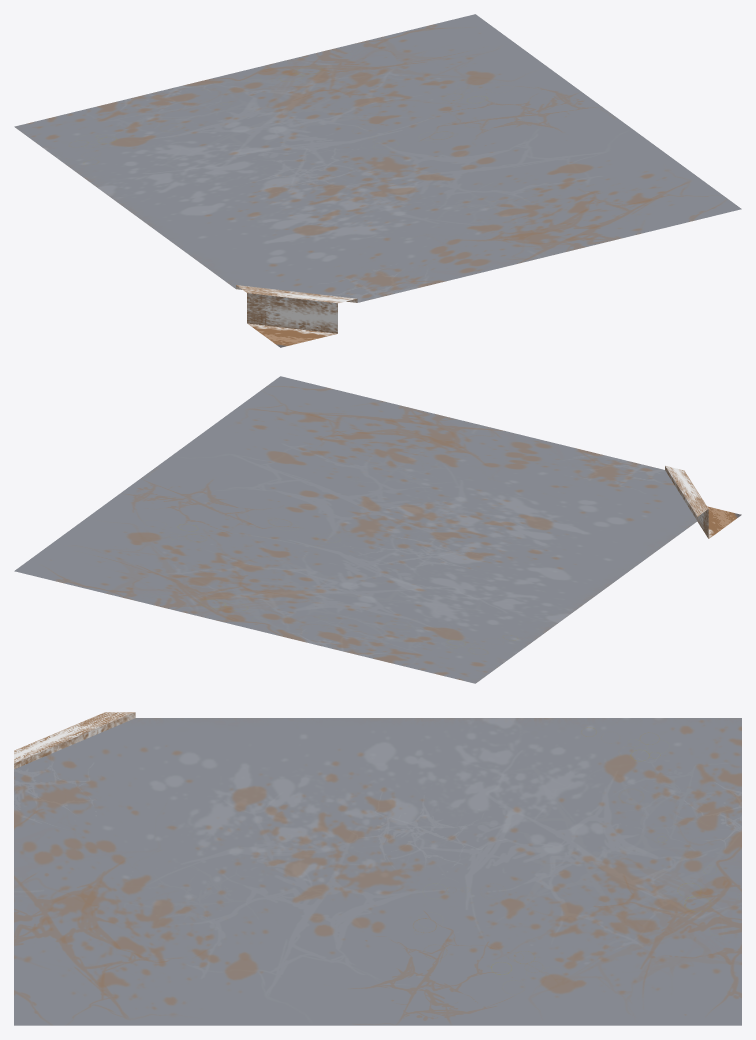
File: Manhole_05.fbx
3 views of the same model, one above another, from view 1: azimuth 30°, elevation 25°; view 2: azimuth 150°, elevation 25°; view 3: azimuth 270°, elevation 25° (orthographic). The views are drawn at different scales.
Visible parts, largest first — view 1: Manhole_05; view 2: Manhole_05; view 3: Manhole_05.
Part boxes in pixels (left/top/right/bottom): Manhole_05: left=14, top=14, right=741, bottom=347; Manhole_05: left=14, top=376, right=741, bottom=683; Manhole_05: left=14, top=712, right=741, bottom=1025.
Size of the model in its own units: 250 by 15.72 by 250.
